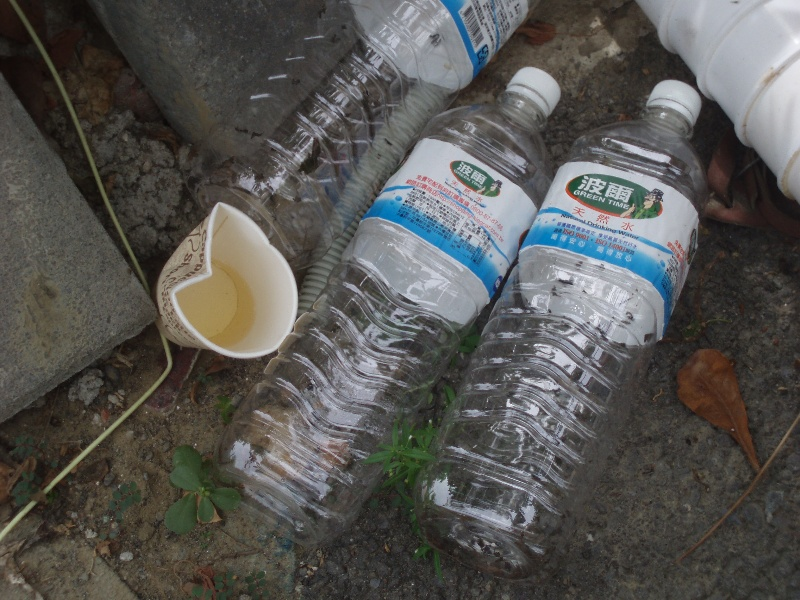bottle: (214, 61, 562, 547), (408, 69, 706, 576), (193, 1, 539, 268), (157, 202, 298, 359)
